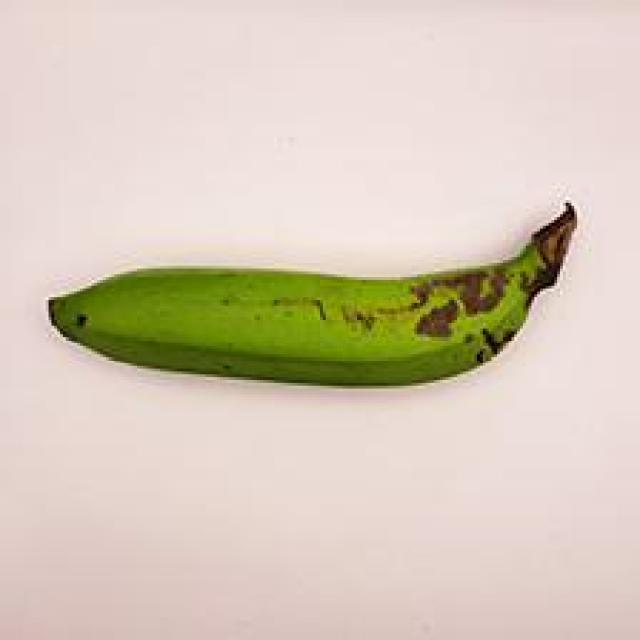Raw: (36, 189, 594, 428)
